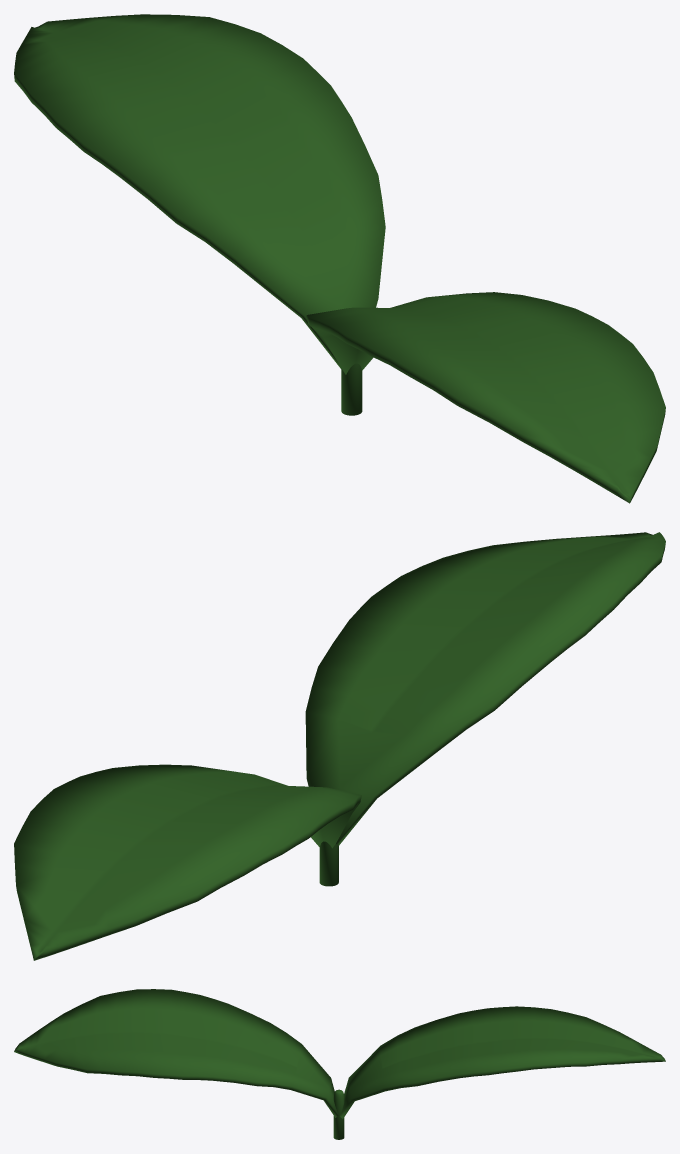
Rendered from sprout-2.fbx.
The picture shows the model from 3 angles, top to bottom: view 1: azimuth 30°, elevation 25°; view 2: azimuth 150°, elevation 25°; view 3: azimuth 270°, elevation 25°; orthographic projection. The views are drawn at different scales.
Parts seen in each view (by area): view 1: sprout-2; view 2: sprout-2; view 3: sprout-2.
Boxes of the visible parts, <box> form: sprout-2: <box>14,14,665,503</box>; sprout-2: <box>14,532,665,960</box>; sprout-2: <box>14,989,665,1139</box>.
Bounding box in the file's own units: 242 × 190 × 992.
